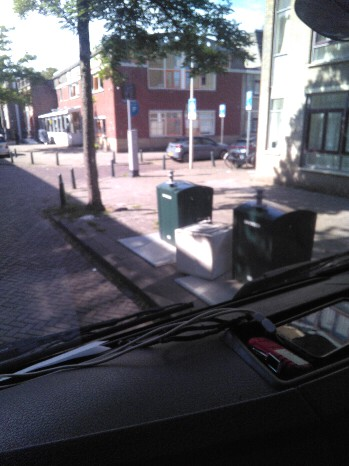Container: (245, 196, 305, 284), (157, 181, 202, 242)
Rest: (172, 213, 231, 266)
